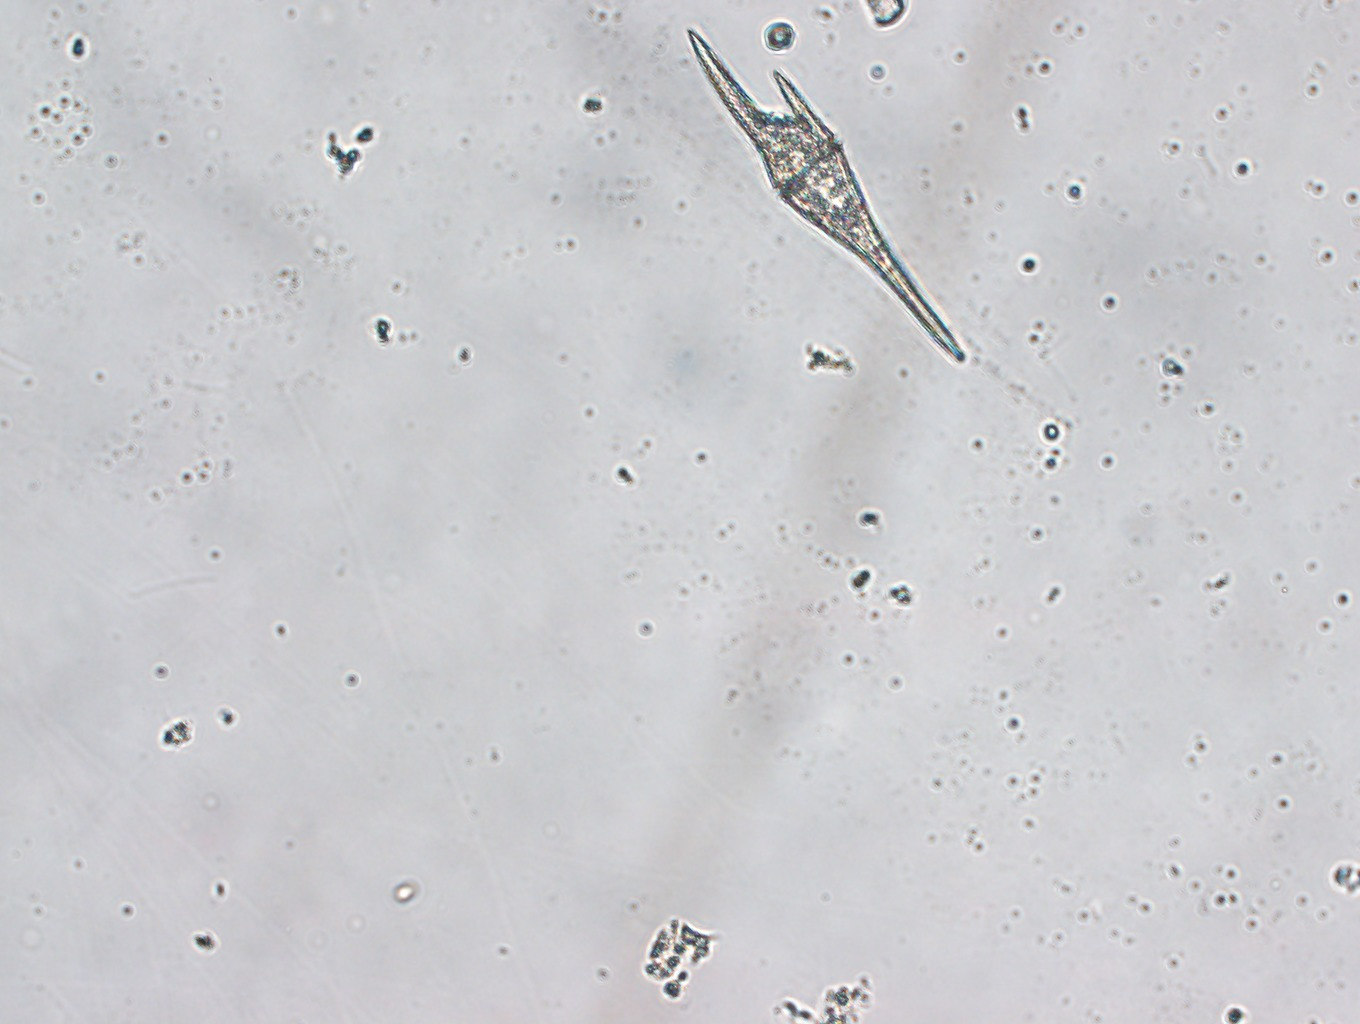ceratium furca: (683, 29, 968, 368)
